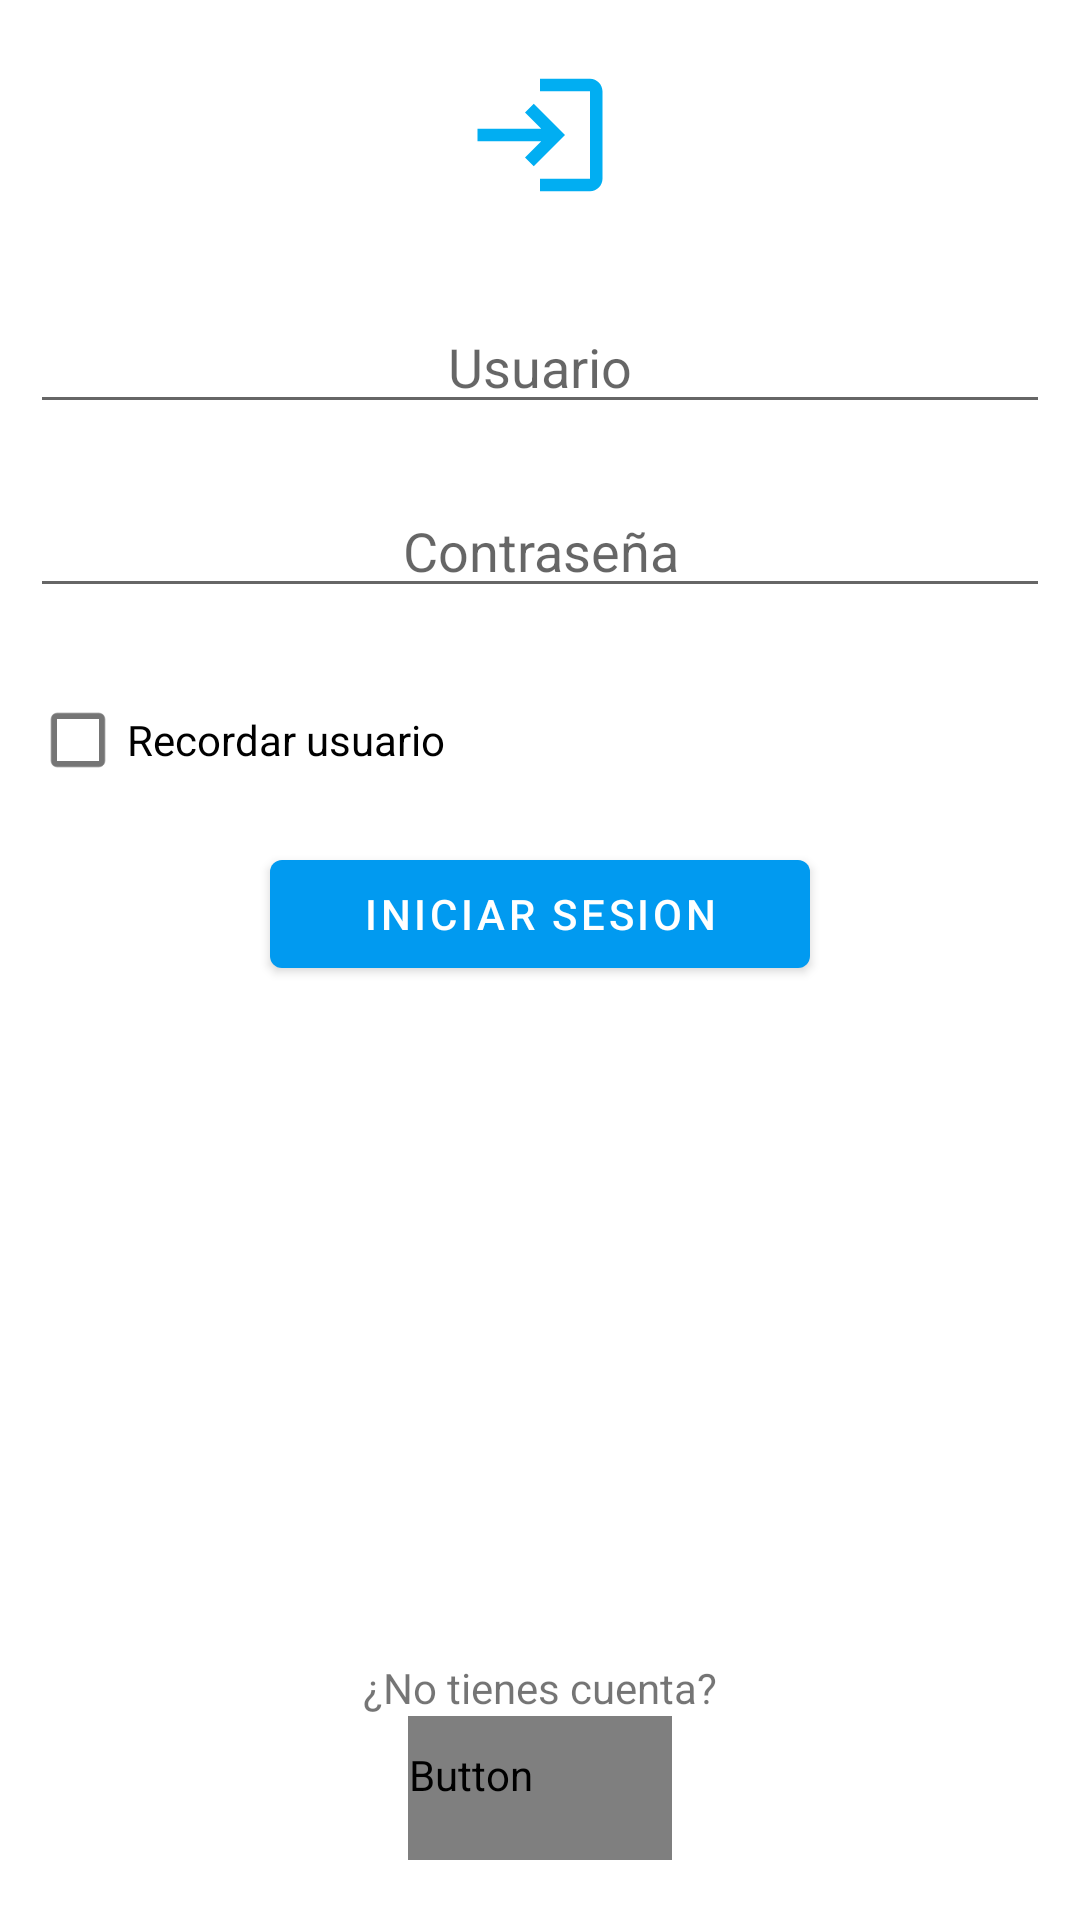

Icon click points for this 1080×1920 phone screenshot, format (x=x, y=y):
login: (x=540, y=135)
